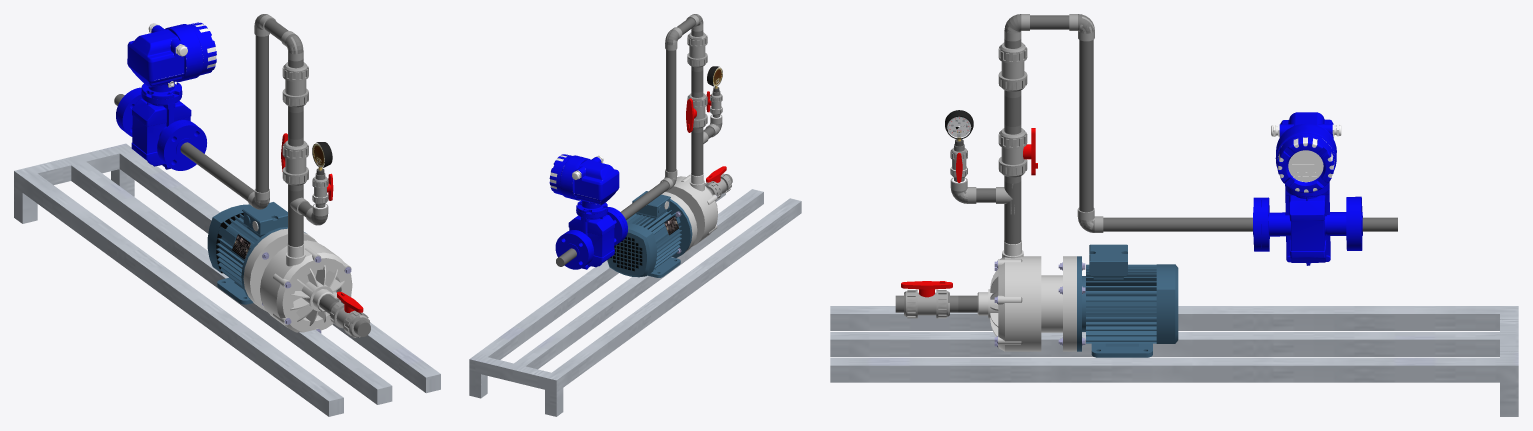
The model's file is stage6_1.glb.
3 renders of one model, left to right at view 1: azimuth 30°, elevation 25°; view 2: azimuth 150°, elevation 25°; view 3: azimuth 270°, elevation 25°, orthographic. The views are drawn at different scales.
Visible parts, largest first — view 1: object 1, SYCTemp, Component#28, object 2, valvula500.1abierta#5 (×3), Component#37, valvula500.1abierta#4, Component#39, Component#34, object 51, codo500#1, h (+2 smaller); view 2: object 1, SYCTemp, object 2, Component#34, Component#28, valvula500.1abierta#5 (×3), Component#37, valvula500.1abierta#4, Component#35, object 51, Component#39, h; view 3: object 1, SYCTemp, Component#28, object 2, Component#37, valvula500.1abierta#5 (×2), Component#34, valvula500.1abierta#4, Component#39, object 51, h, Component#35 (+1 smaller).
Part boxes in pixels (x1=…): object 1: x1=14, y1=143, x2=440, y2=416; SYCTemp: x1=116, y1=22, x2=216, y2=170; Component#28: x1=243, y1=228, x2=352, y2=332; object 2: x1=114, y1=19, x2=288, y2=201; valvula500.1abierta#5 (×3): x1=281, y1=133, x2=370, y2=337; Component#37: x1=216, y1=213, x2=260, y2=287; valvula500.1abierta#4: x1=282, y1=58, x2=308, y2=112; Component#39: x1=242, y1=202, x2=287, y2=237; Component#34: x1=207, y1=204, x2=252, y2=273; object 51: x1=288, y1=189, x2=303, y2=246; codo500#1: x1=281, y1=31, x2=303, y2=61; h: x1=217, y1=277, x2=252, y2=304; object 1: x1=469, y1=189, x2=801, y2=416; SYCTemp: x1=549, y1=154, x2=627, y2=269; object 2: x1=556, y1=18, x2=695, y2=266; Component#34: x1=607, y1=223, x2=656, y2=277; Component#28: x1=661, y1=176, x2=717, y2=252; valvula500.1abierta#5 (×3): x1=686, y1=90, x2=732, y2=199; Component#37: x1=626, y1=209, x2=681, y2=269; valvula500.1abierta#4: x1=687, y1=30, x2=707, y2=71; Component#35: x1=667, y1=199, x2=692, y2=257; object 51: x1=691, y1=131, x2=703, y2=176; Component#39: x1=632, y1=191, x2=670, y2=218; h: x1=648, y1=257, x2=680, y2=277; object 1: x1=830, y1=306, x2=1518, y2=416; SYCTemp: x1=1253, y1=112, x2=1362, y2=265; Component#28: x1=988, y1=256, x2=1076, y2=351; object 2: x1=1030, y1=15, x2=1397, y2=231; Component#37: x1=1086, y1=264, x2=1156, y2=343; valvula500.1abierta#5 (×2): x1=895, y1=124, x2=1037, y2=318; Component#34: x1=1156, y1=264, x2=1178, y2=343; valvula500.1abierta#4: x1=998, y1=38, x2=1027, y2=97; Component#39: x1=1089, y1=244, x2=1127, y2=279; object 51: x1=1004, y1=180, x2=1021, y2=244; h: x1=1091, y1=343, x2=1152, y2=357; Component#35: x1=1077, y1=256, x2=1085, y2=351.
Bounding box in the file's own units: 0.3 × 0.8643 × 1.46.
20 materials, 7 textured.
